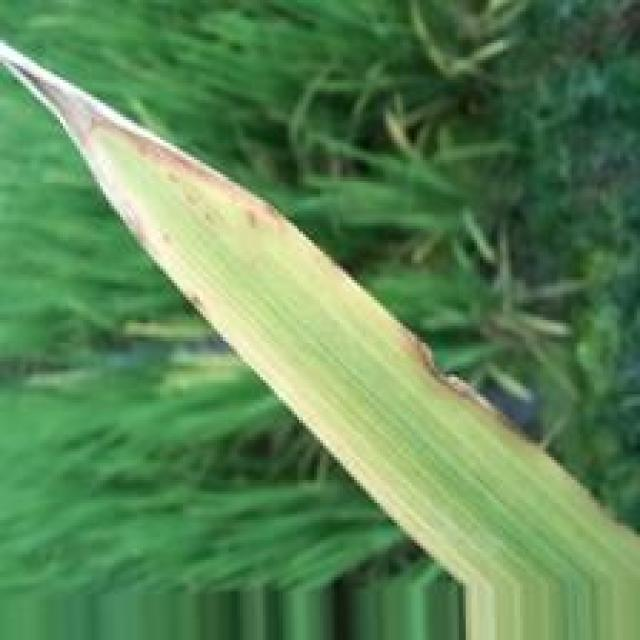Leaf_Scald: (22, 60, 280, 251)
